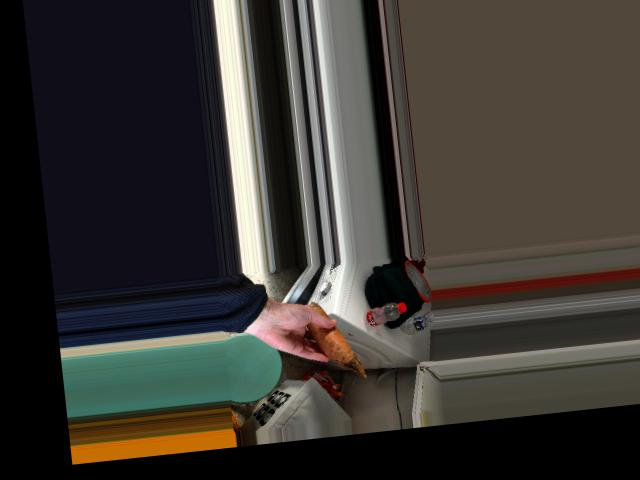sweet_potato: (309, 307, 350, 362)
